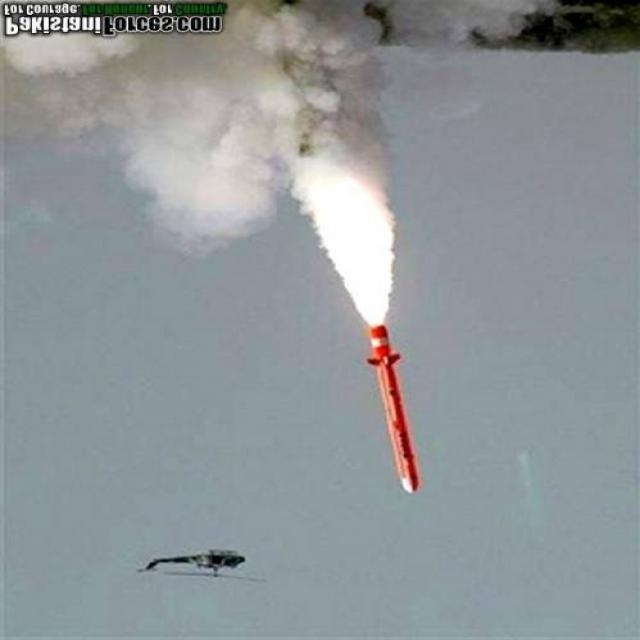Missile: (353, 317, 428, 497)
